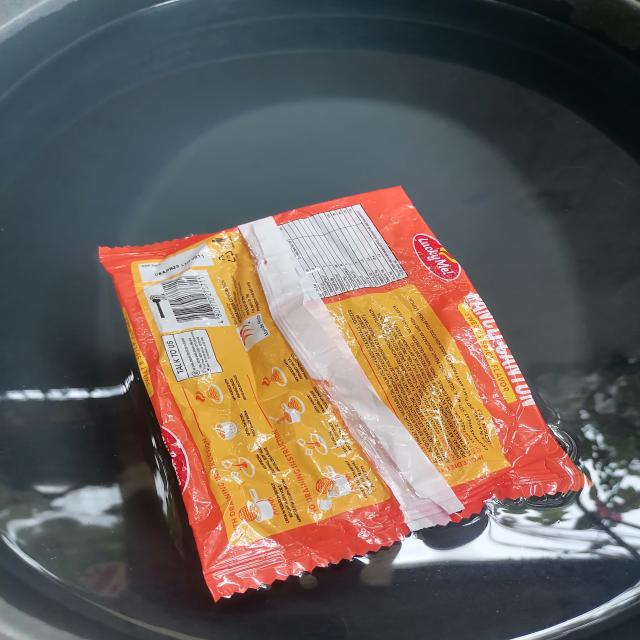Plastic Wrapper: (99, 187, 584, 600)
